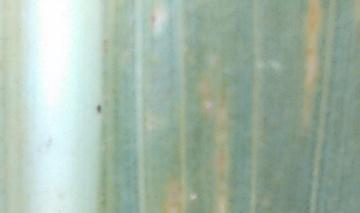tarspot: (95, 103, 102, 114)
